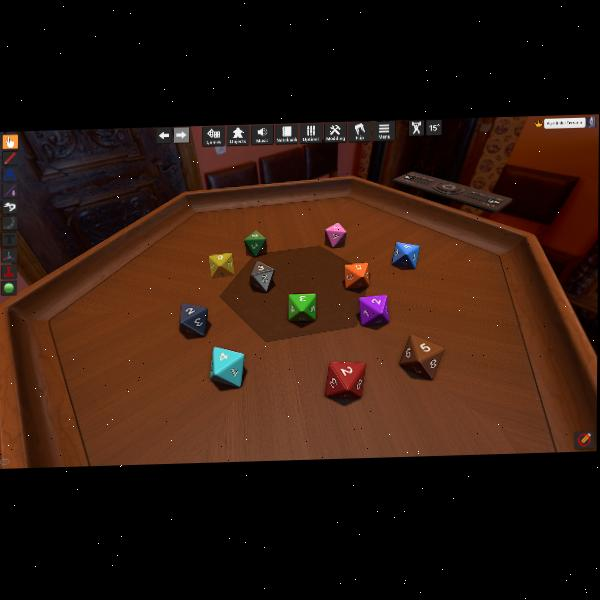d8: (400, 334, 442, 379), (323, 360, 363, 399), (212, 343, 247, 385), (179, 301, 208, 337), (359, 294, 388, 326), (250, 260, 276, 292), (288, 293, 315, 321), (391, 241, 417, 269), (345, 261, 369, 288), (209, 252, 233, 277), (244, 230, 266, 257), (324, 222, 344, 248)
